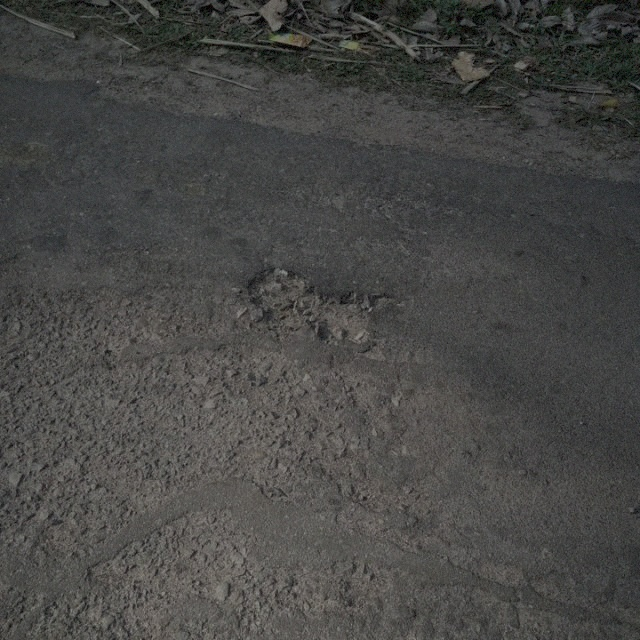pothole: (242, 262, 388, 347)
